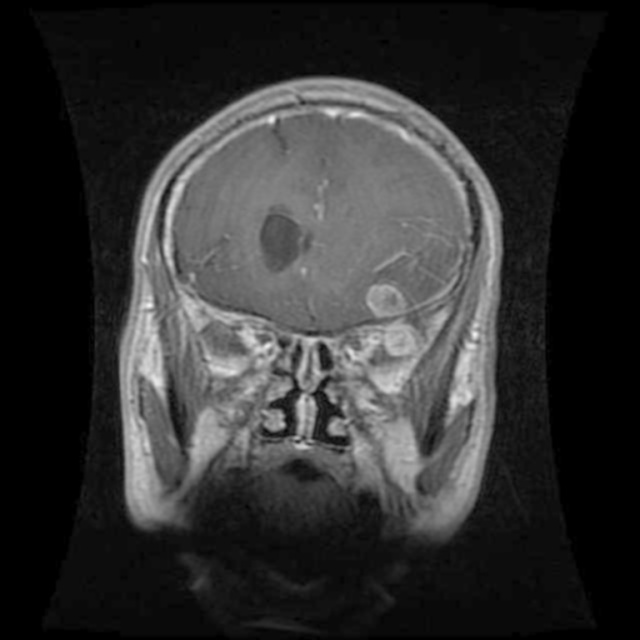pituitary tumor: (360, 282, 422, 358)
